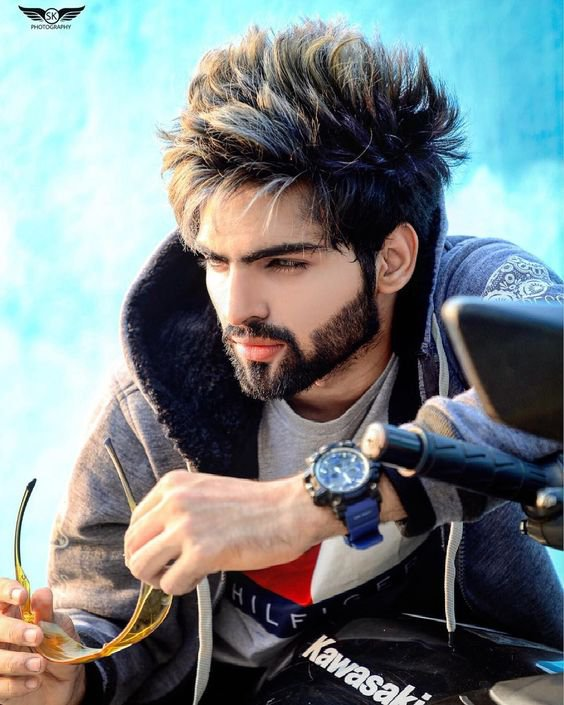noMask: (137, 28, 407, 398)
